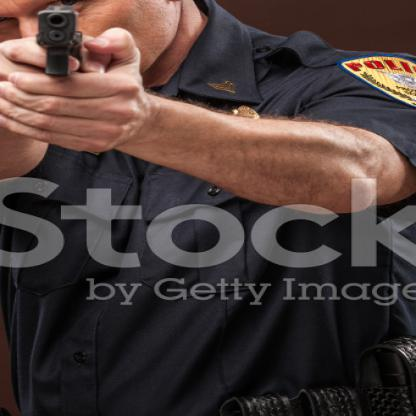gun: (22, 4, 107, 96)
